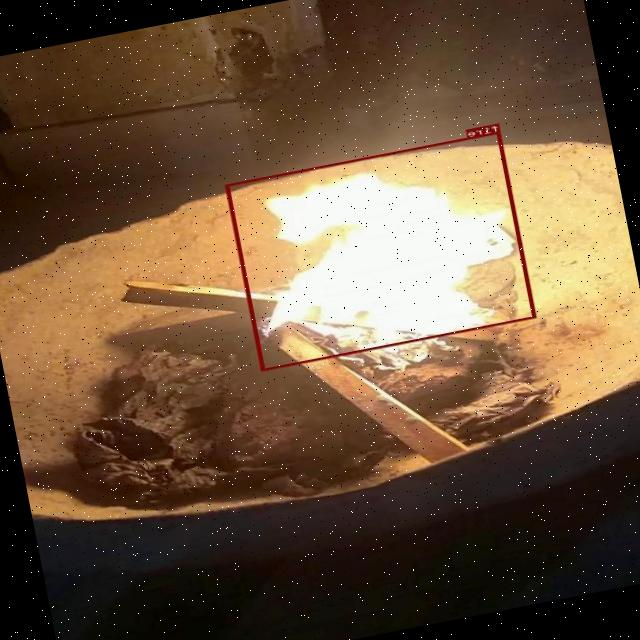fire: (226, 130, 537, 372)
